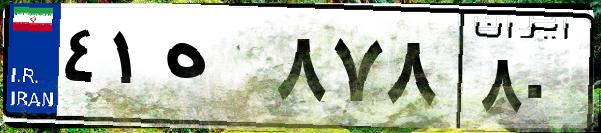0: (525, 38, 570, 115)
1: (110, 28, 158, 98)
4: (57, 26, 110, 100)
7: (330, 28, 385, 110)
8: (270, 28, 330, 110), (385, 28, 445, 110), (475, 38, 525, 113)
ه: (158, 20, 270, 120)
